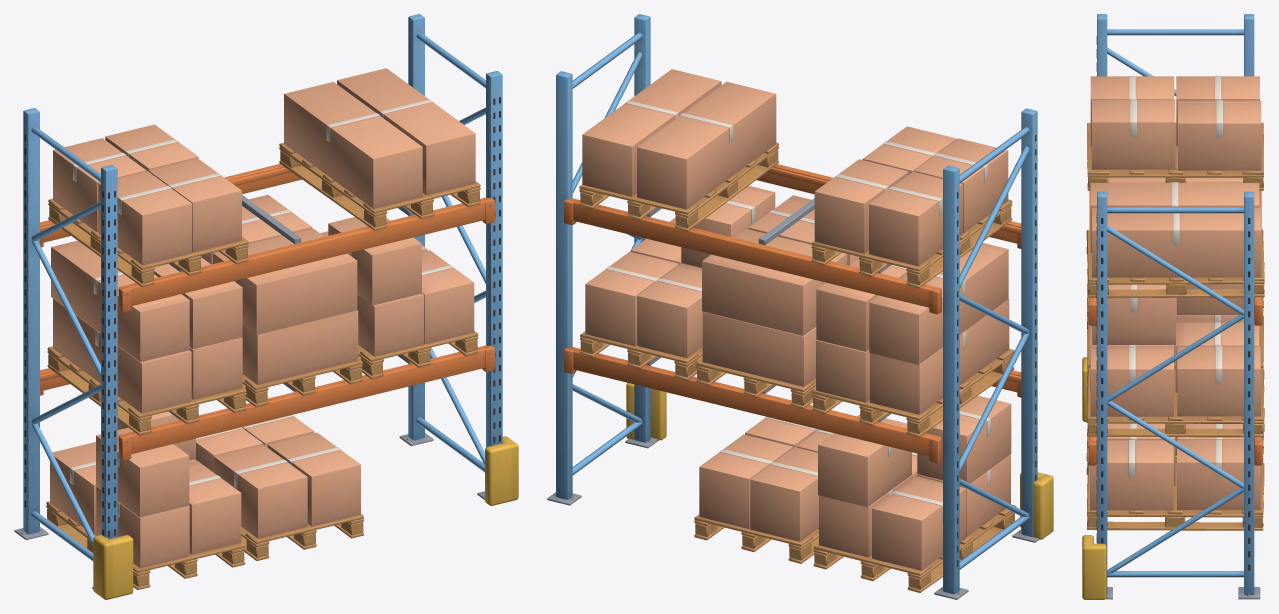
The model's file is pallet-rack.glb.
The picture shows the model from 3 angles, left to right: view 1: azimuth 30°, elevation 25°; view 2: azimuth 150°, elevation 25°; view 3: azimuth 270°, elevation 25°; orthographic projection. The views are drawn at different scales.
Parts seen in each view (by area): view 1: pallet-rack_body, pallet-rack_upright_slots; view 2: pallet-rack_body, pallet-rack_upright_slots; view 3: pallet-rack_body, pallet-rack_upright_slots.
Boxes of the visible parts, x1,y1,x2,y2 form: pallet-rack_body: (14, 14, 518, 599); pallet-rack_upright_slots: (24, 97, 500, 537); pallet-rack_body: (547, 14, 1053, 599); pallet-rack_upright_slots: (957, 135, 1036, 566); pallet-rack_body: (1082, 14, 1264, 599); pallet-rack_upright_slots: (1096, 36, 1250, 570).
Size of the model in its own units: 3.08 by 3 by 1.24.
2 materials, 1 textured.
